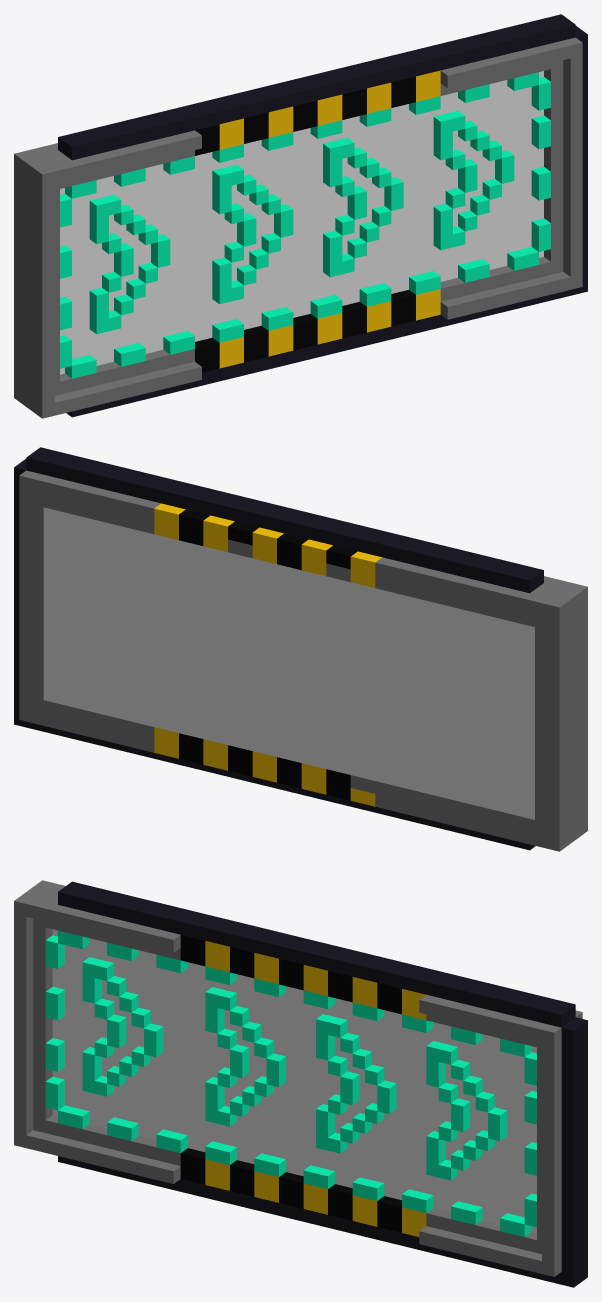
Rendered from Signborad_012.obj.
The picture shows the model from 3 angles, top to bottom: view 1: azimuth 30°, elevation 25°; view 2: azimuth 150°, elevation 25°; view 3: azimuth 330°, elevation 25°; orthographic projection.
Bounding box in the file's own units: 4.5 × 2.1 × 0.4.
Materials: 1 (1 with a texture image).
